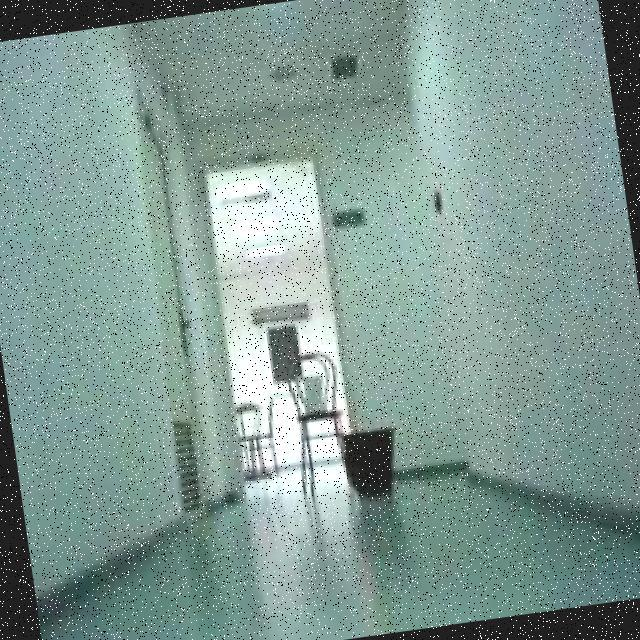Fire: (332, 407, 368, 432)
